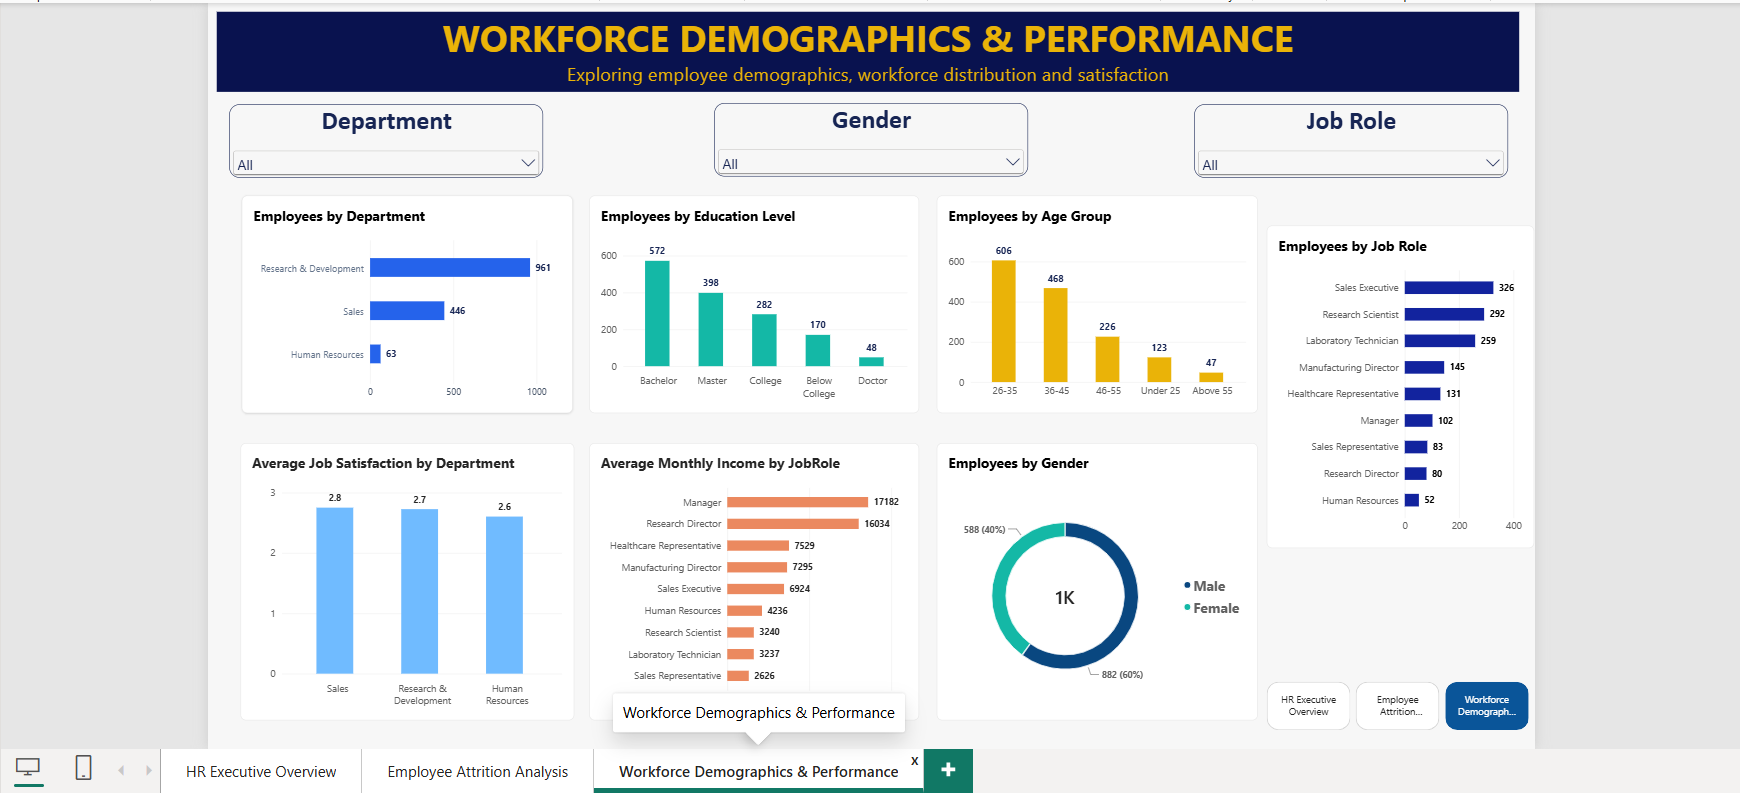

The dashboard page shown, as its layout file describes it:
{"tool":"powerbi","page":{"name":"Workforce Demographics & Performance","canvas":[1920,1080],"ordinal":2},"visuals":[{"type":"clusteredBarChart","title":"Employees by Department","fields":{"Category":["DimDepartment.Department"],"Y":["HR Measures.Total Employees"]},"box":[48.9,278.7,479.6,314.9],"z":0},{"type":"clusteredColumnChart","title":"Employees by Education Level","fields":{"Category":["DimEducation.EducationLevel"],"Y":["HR Measures.Total Employees"]},"box":[551.9,278.7,477.8,314.9],"z":1000},{"type":"clusteredBarChart","title":"Employees by Job Role","fields":{"Category":["DimJobRole.JobRole"],"Y":["HR Measures.Total Employees"]},"box":[1532.8,322.1,387.3,466.9],"z":2000},{"type":"clusteredColumnChart","title":"Employees by Age Group","fields":{"Category":["FactEmployee.Age Group"],"Y":["HR Measures.Total Employees"]},"box":[1055,278.7,465.1,314.9],"z":3000},{"type":"donutChart","title":" Employees by Gender","fields":{"Category":["FactEmployee.Gender"],"Y":["HR Measures.Total Employees"]},"box":[1055,637,465.1,401.7],"z":4000},{"type":"clusteredColumnChart","fields":{"Category":["DimDepartment.Department"],"Y":["HR Measures.Average Job Satisfaction"]},"box":[47.1,637,483.2,401.7],"z":5000},{"type":"clusteredBarChart","fields":{"Category":["DimJobRole.JobRole"],"Y":["HR Measures.Average Monthly Income"]},"box":[551.9,637,477.8,401.7],"z":6000},{"type":"textbox","box":[12.7,12.7,1885.7,115.8],"z":9002},{"type":"slicer","title":"Department","fields":{"Values":["DimDepartment.Department"]},"box":[30.8,146.6,454.2,106.8],"z":9003},{"type":"slicer","title":"Gender","fields":{"Values":["FactEmployee.Gender"]},"box":[732.9,144.8,454,106],"z":9004},{"type":"slicer","title":"Job Role","fields":{"Values":["DimJobRole.JobRole"]},"box":[1427.8,146.6,454,106],"z":9005},{"type":"pageNavigator","box":[1532.8,982.6,381.8,70.6],"z":9006}]}

Visuals, with their boxes on the page's 1920x1080 design canvas (x1, y1, x2, y2). These are canvas units, not pixel positions in the 1740x793 screenshot, which may show the page scaled, cropped or inside an application window:
"Employees by Department" clusteredBarChart: [49, 279, 528, 594]
"Employees by Education Level" clusteredColumnChart: [552, 279, 1030, 594]
"Employees by Job Role" clusteredBarChart: [1533, 322, 1920, 789]
"Employees by Age Group" clusteredColumnChart: [1055, 279, 1520, 594]
" Employees by Gender" donutChart: [1055, 637, 1520, 1039]
clusteredColumnChart - DimDepartment.Department x HR Measures.Average Job Satisfaction: [47, 637, 530, 1039]
clusteredBarChart - DimJobRole.JobRole x HR Measures.Average Monthly Income: [552, 637, 1030, 1039]
textbox: [13, 13, 1898, 128]
"Department" slicer: [31, 147, 485, 253]
"Gender" slicer: [733, 145, 1187, 251]
"Job Role" slicer: [1428, 147, 1882, 253]
pageNavigator: [1533, 983, 1915, 1053]
